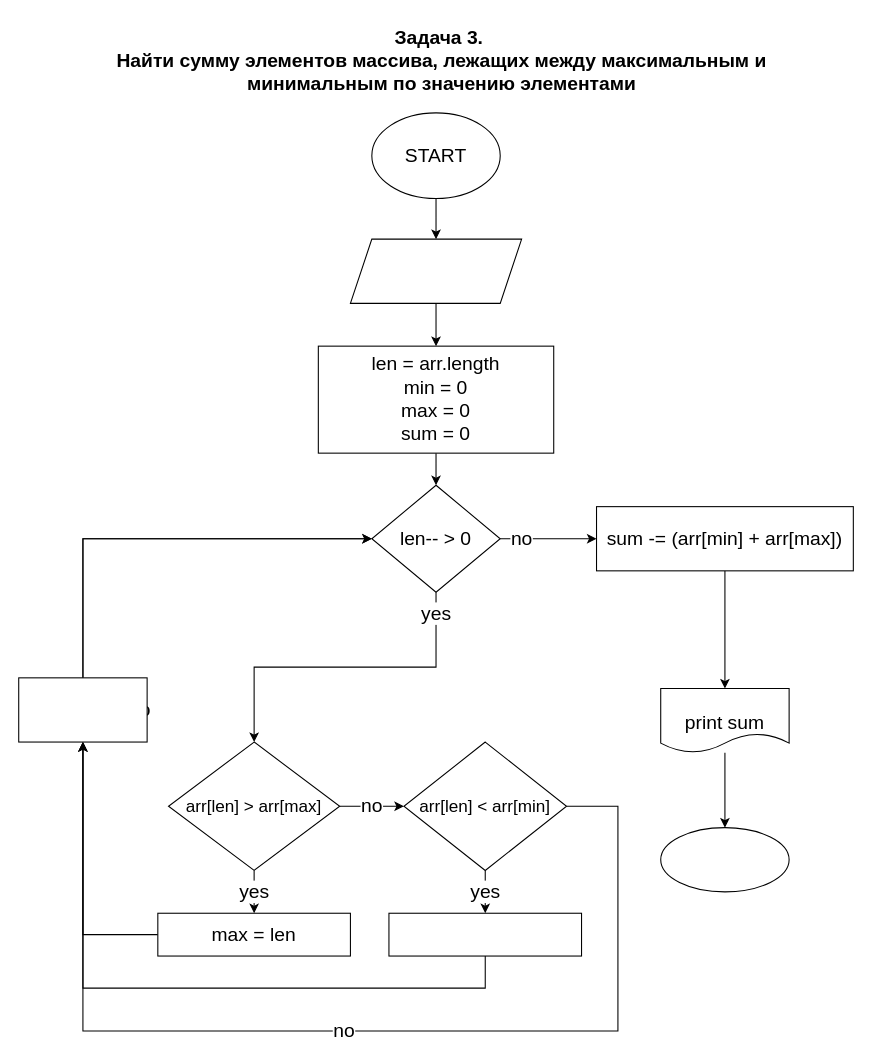
Some shapes in this 872 by 1060 pixel diagram are drawn without their labels. Here are the shapes that lost their labels. From the top down, the centre of each, then its label:
At point 435,270: "input arr[]".
At point 82,709: "sum += arr[len]".
At point 724,859: "FINISH".
At point 485,934: "min = len".
